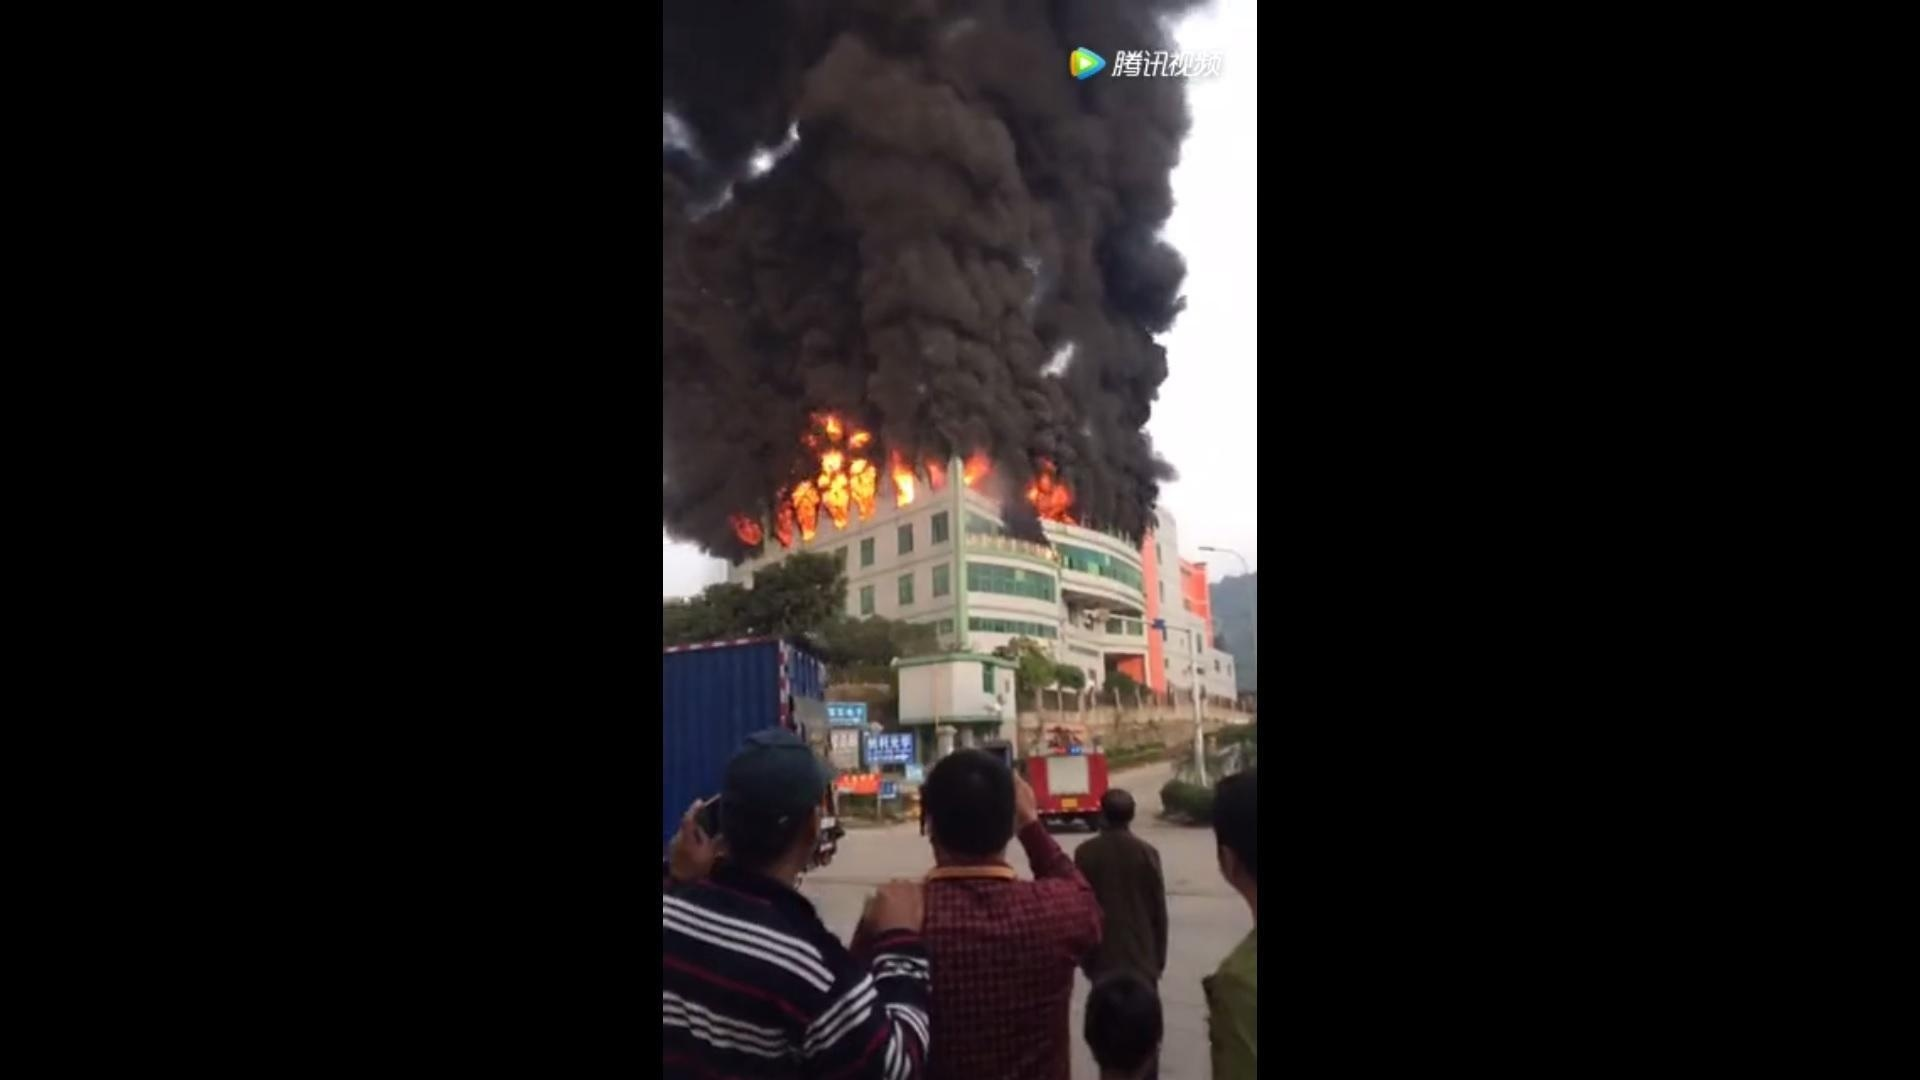fire: (765, 415, 960, 534), (1022, 462, 1075, 524)
